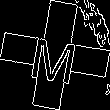M_N: (28, 26, 82, 84)
